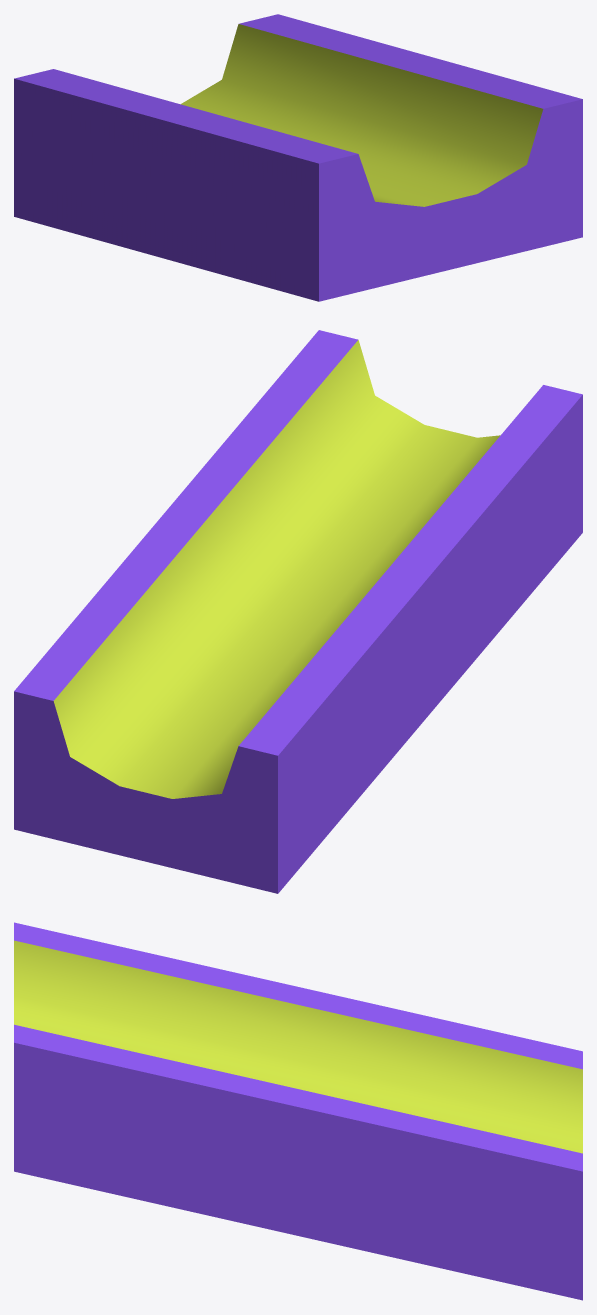
File: slant_long_B.fbx
3 views of the same model, one above another, from view 1: azimuth 30°, elevation 25°; view 2: azimuth 150°, elevation 25°; view 3: azimuth 270°, elevation 25° (orthographic). The views are drawn at different scales.
Visible parts, largest first — view 1: slant_long_B; view 2: slant_long_B; view 3: slant_long_B.
Part boxes in pixels (x1,y1,x2,y2): slant_long_B: [14, 14, 582, 301]; slant_long_B: [14, 330, 582, 893]; slant_long_B: [14, 922, 582, 1300].
Bounding box in the file's own units: 10 × 10 × 20.
